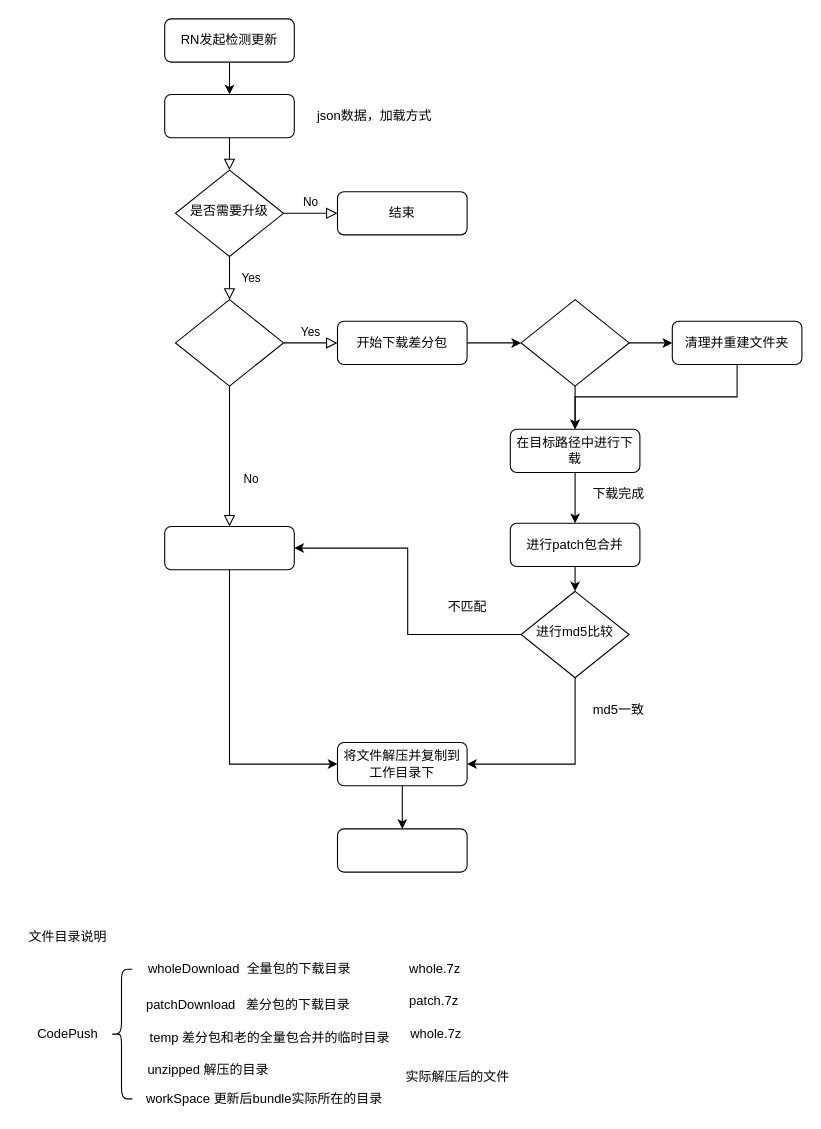
Some shapes in this 821 by 1129 pixel diagram are drawn without their labels. The centre of each missing label's shape, as x and y in pixels:
"开始全量包下载" goes at (x=229, y=547).
"当前下载路径 是否存在" goes at (x=574, y=342).
"是否 需要进行差分" goes at (x=229, y=342).
"生成并存储新的配置信息" goes at (x=401, y=850).
"进入原生方法" goes at (x=229, y=115).
